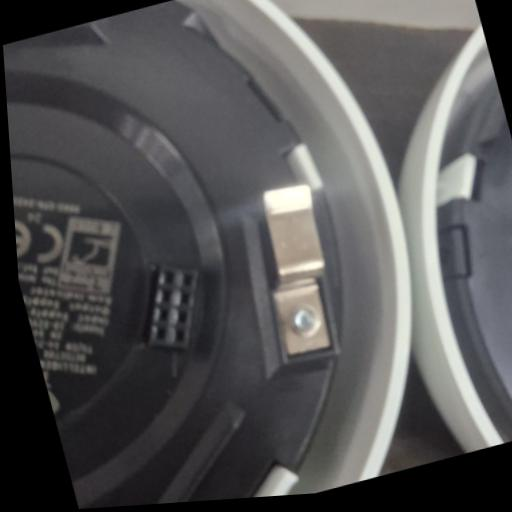yaysiz: (241, 174, 354, 368)
